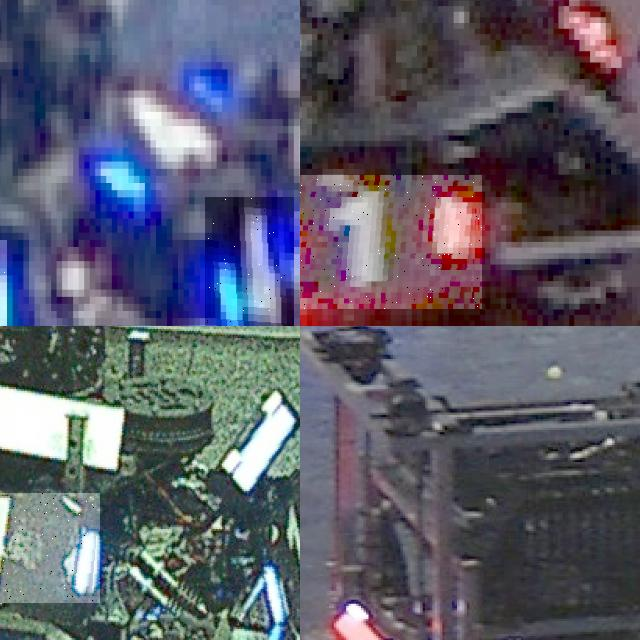B1: (0, 492, 100, 603)
B4: (205, 197, 293, 326)
R1: (300, 174, 482, 309)
